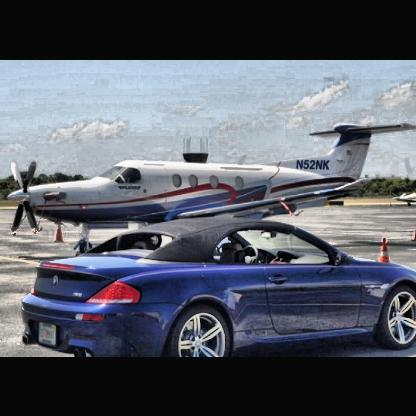BMW M6 Convertible 2010: (30, 211, 416, 351)
